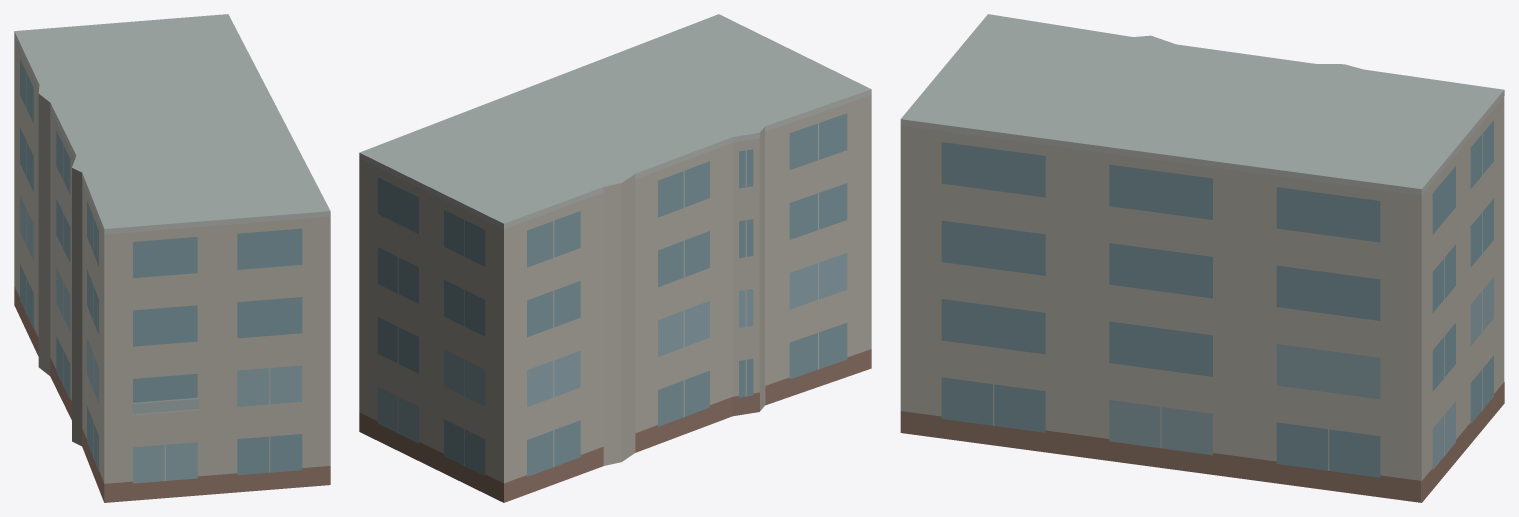
Rendered from survey-upis-33022185.glb.
3 renders of one model, left to right at view 1: azimuth 30°, elevation 25°; view 2: azimuth 150°, elevation 25°; view 3: azimuth 270°, elevation 25°, orthographic. The views are drawn at different scales.
Visible parts, largest first — view 1: survey-upis-33022185.tmp; view 2: survey-upis-33022185.tmp; view 3: survey-upis-33022185.tmp.
Boxes of the visible parts, bbox=[...] form: survey-upis-33022185.tmp: bbox=[14, 14, 330, 502]; survey-upis-33022185.tmp: bbox=[359, 14, 871, 502]; survey-upis-33022185.tmp: bbox=[900, 14, 1504, 502].
Bounding box in the file's own units: 14.62 × 12.2 × 21.3.
